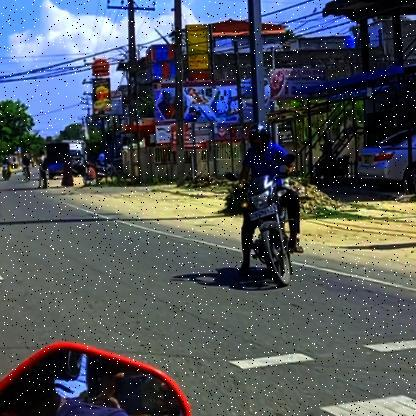motorcycle: (229, 174, 306, 291)
